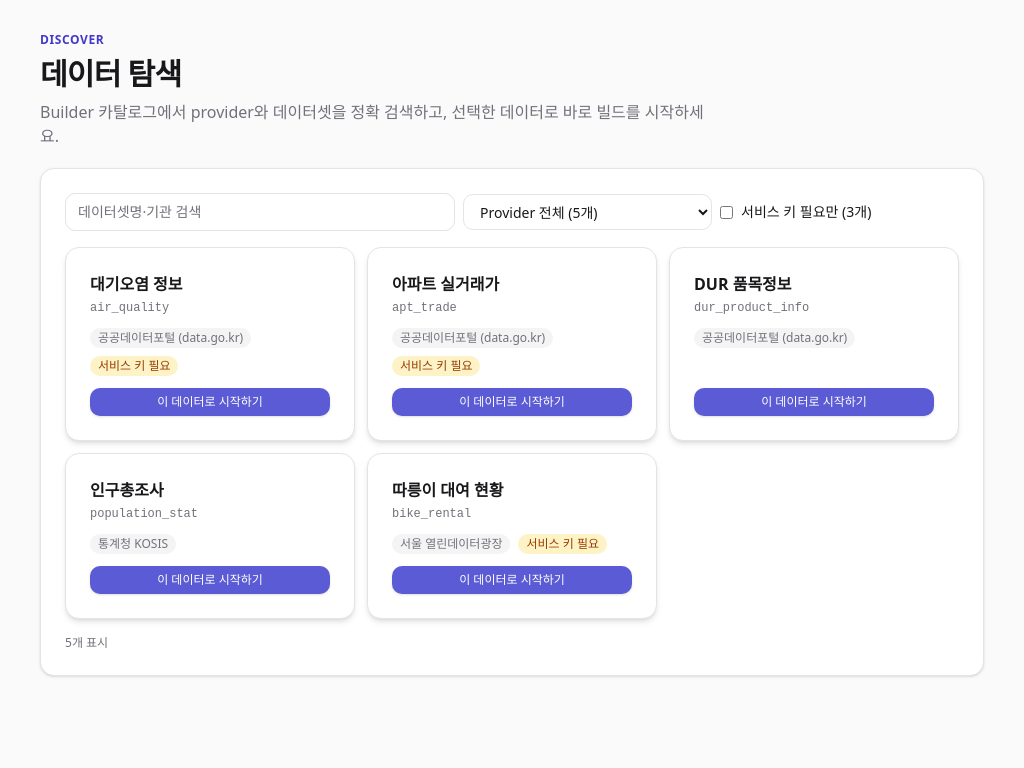
DiscoverPage › filters by exact search query on dataset name/title/provider
Expected: the text "대기오염 정보" is shown, 90,273 -> 182,295
Type "인구총조사" into the field labelled "데이터셋명·기관 검색". click: (260, 212)
box: 65,193 -> 455,231
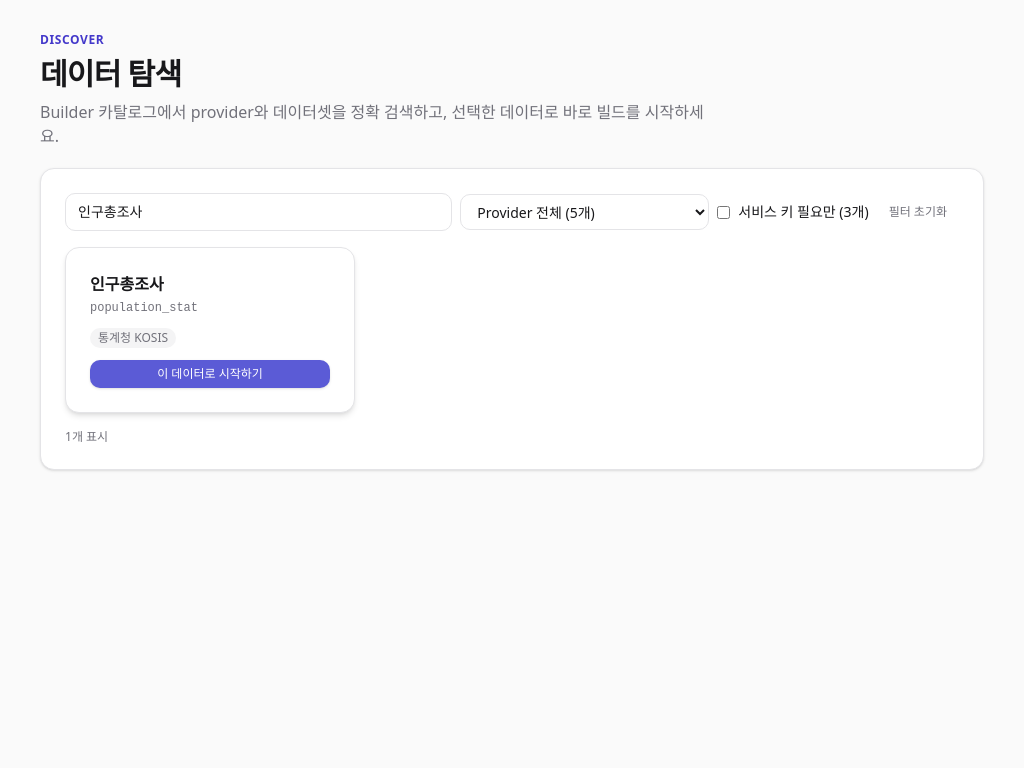
Expected: the text "인구총조사" is shown, 90,273 -> 164,295
Expected: the text "대기오염 정보" is gone
